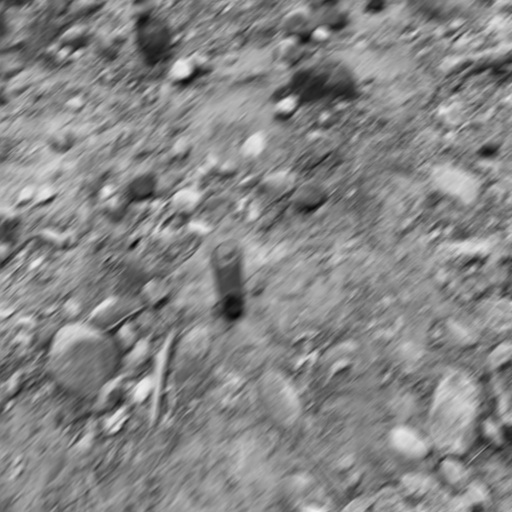bottle: (212, 242, 246, 320)
